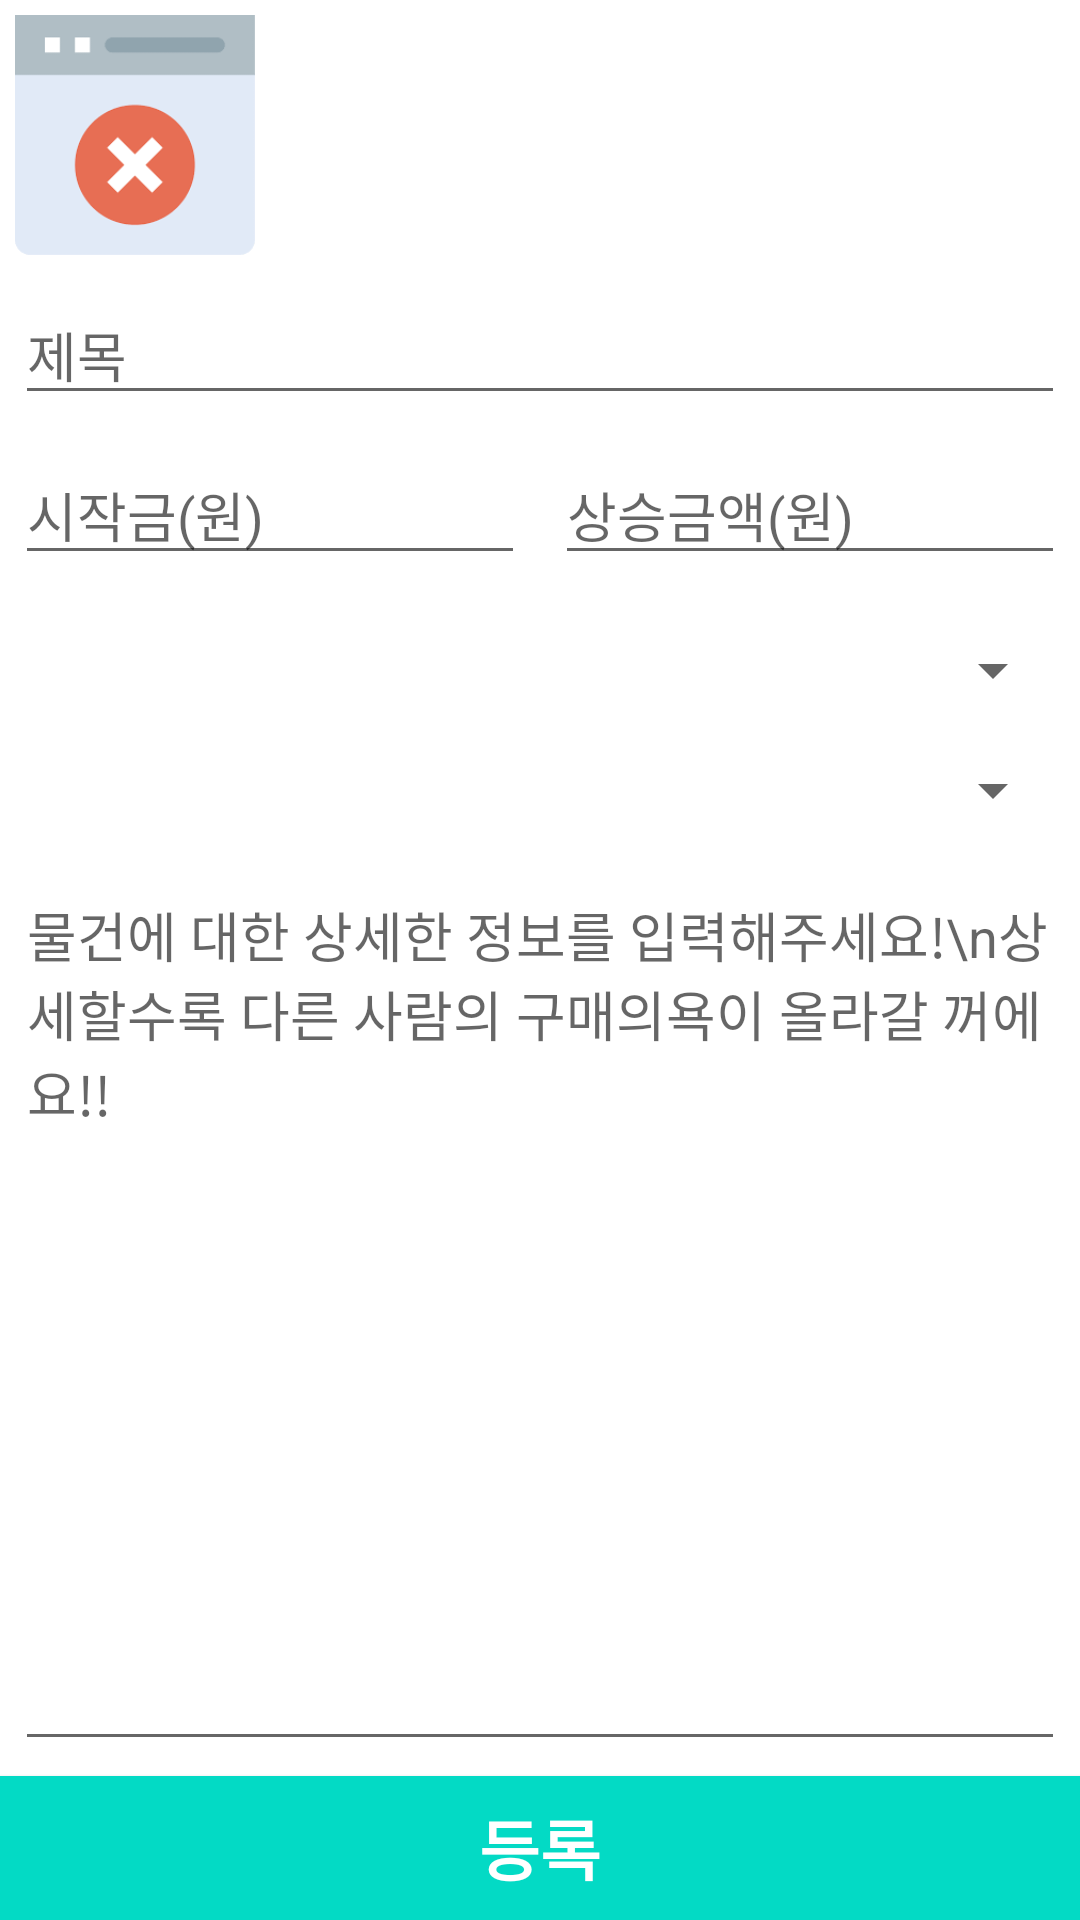

Locate icon controls on the screen. Image size 1080px×1920px, boxes as (x1, y1, x2, y2).
noimage: (15, 15, 255, 255)
